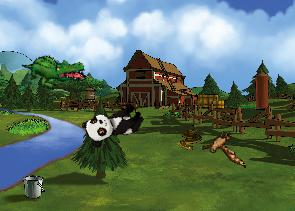crocodile: (21, 45, 88, 96)
eagle: (199, 128, 249, 168)
panda: (80, 97, 147, 150)
